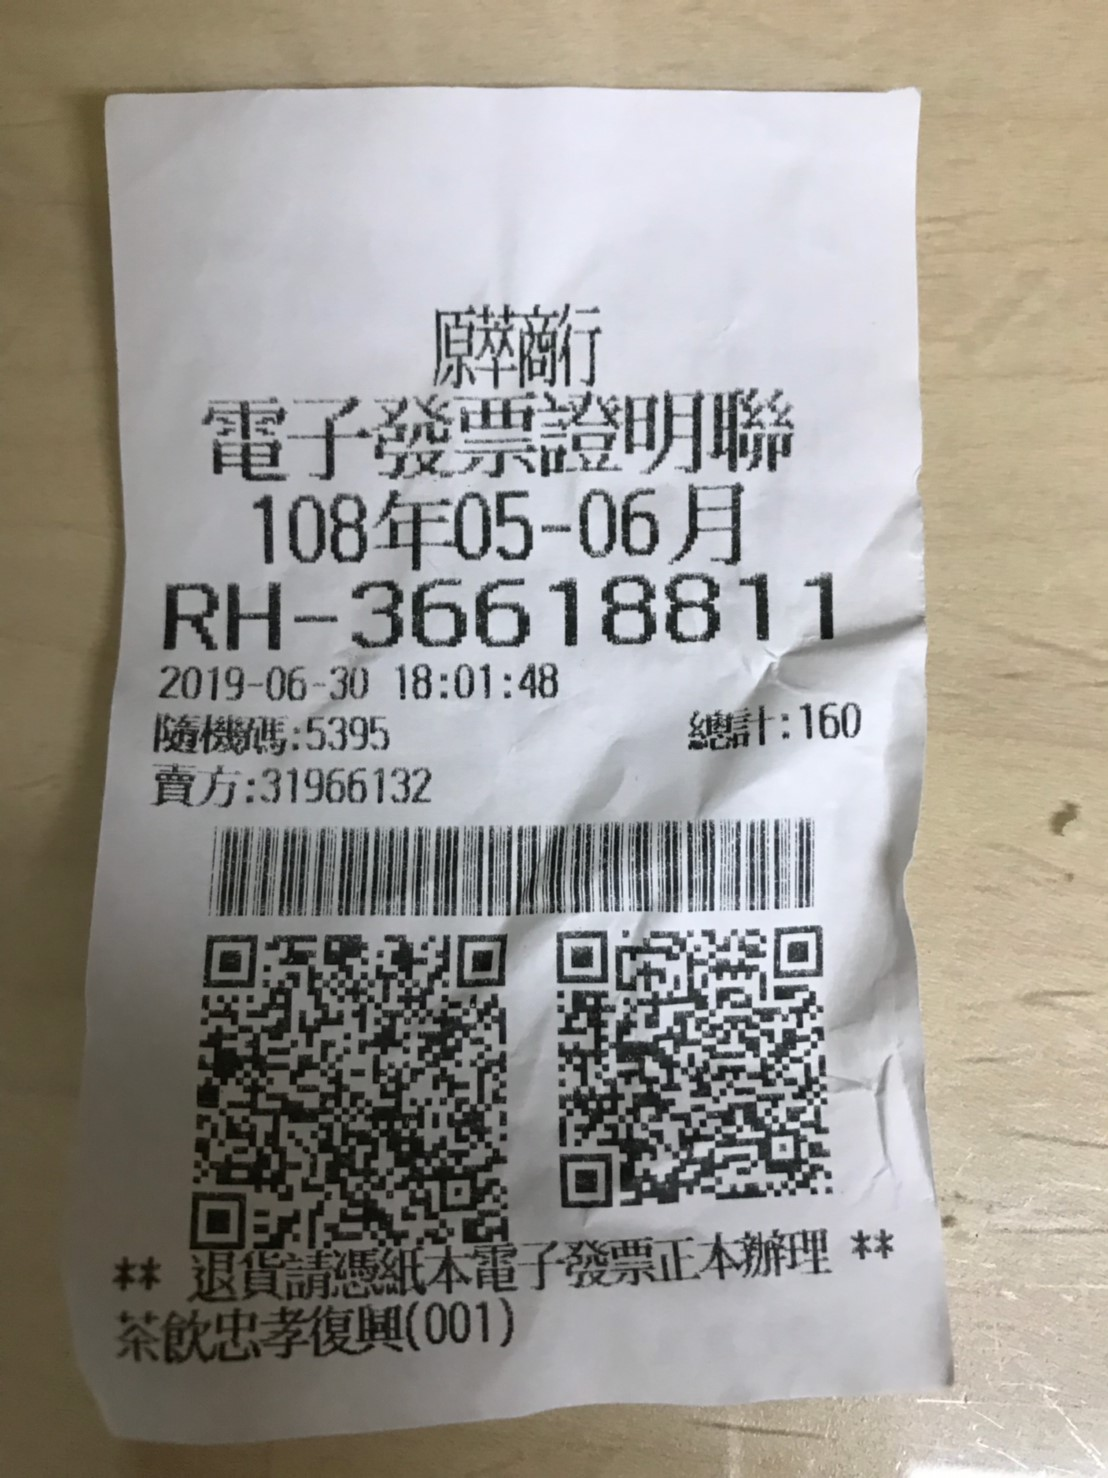Date_New: (248, 479, 748, 568)
Number_New: (347, 574, 841, 649)
